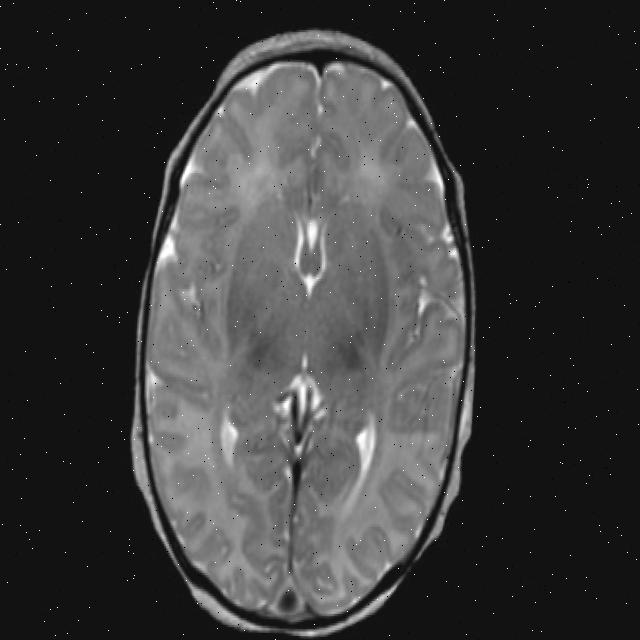NoTumor: (119, 26, 497, 639)
